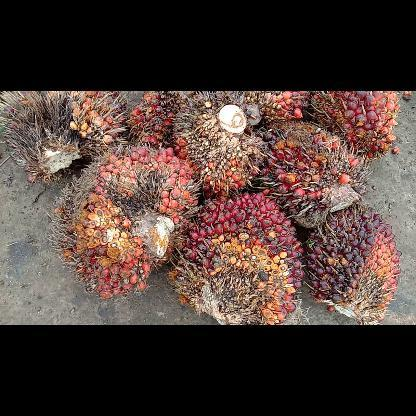TBS masak: (59, 144, 199, 306), (167, 194, 304, 324), (126, 91, 266, 193), (306, 206, 400, 324), (0, 92, 131, 174), (258, 123, 366, 221), (314, 92, 400, 164), (236, 92, 312, 128)
